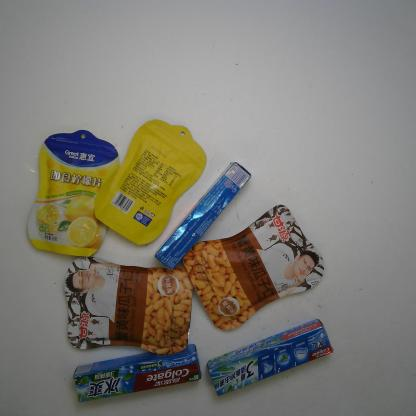Dried Fruit: (181, 203, 327, 332), (93, 117, 207, 247), (61, 255, 196, 357), (24, 127, 121, 258)
Personal Hygiene: (153, 159, 253, 273), (204, 317, 336, 401), (70, 342, 204, 407)
